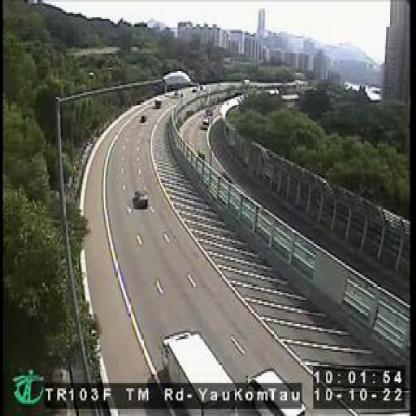Car: (248, 368, 304, 412), (132, 188, 148, 210)
Truck: (161, 330, 240, 408)
